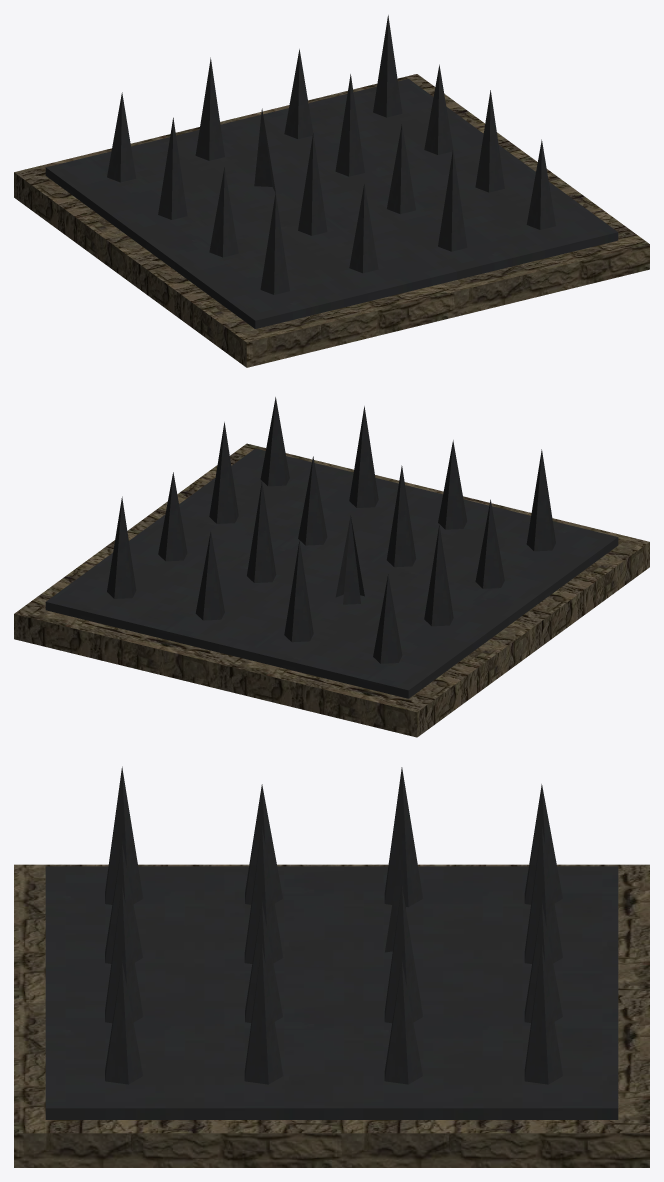
File: spike_trap_01.glb
The picture shows the model from 3 angles, top to bottom: view 1: azimuth 30°, elevation 25°; view 2: azimuth 150°, elevation 25°; view 3: azimuth 270°, elevation 25°; orthographic projection. The views are drawn at different scales.
Visible parts, largest first — view 1: spike_trap_01; view 2: spike_trap_01; view 3: spike_trap_01.
Part boxes in pixels (x1=…): spike_trap_01: x1=14, y1=15, x2=649, y2=367; spike_trap_01: x1=14, y1=397, x2=649, y2=737; spike_trap_01: x1=14, y1=766, x2=649, y2=1167.
Bounding box in the file's own units: 2 × 0.62 × 2.
2 materials, 2 textured.
